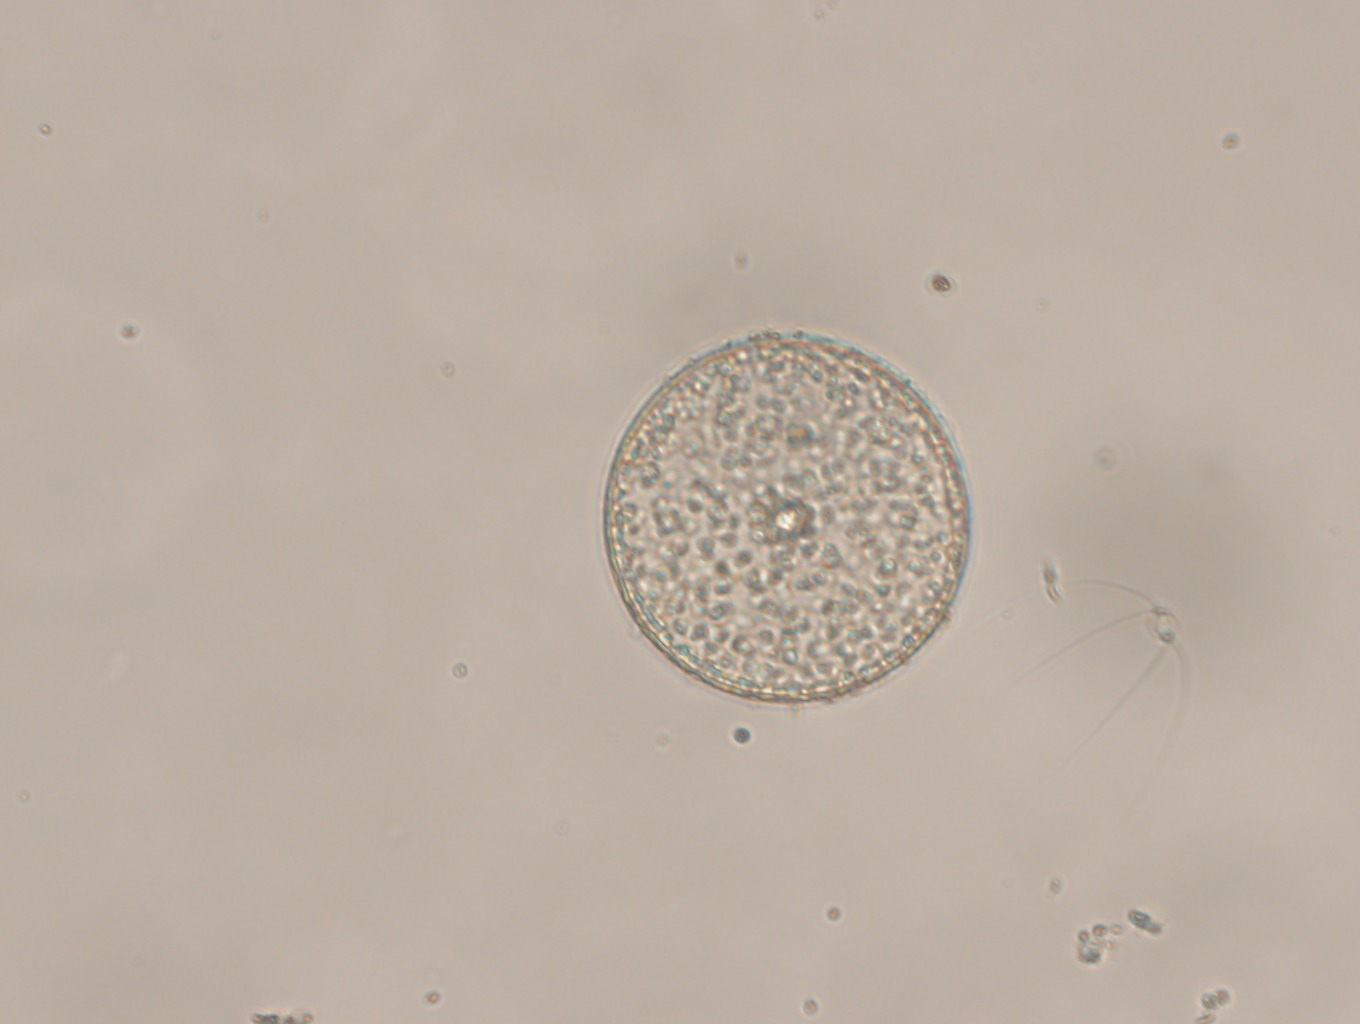coscinodiscus: (595, 321, 978, 709)
